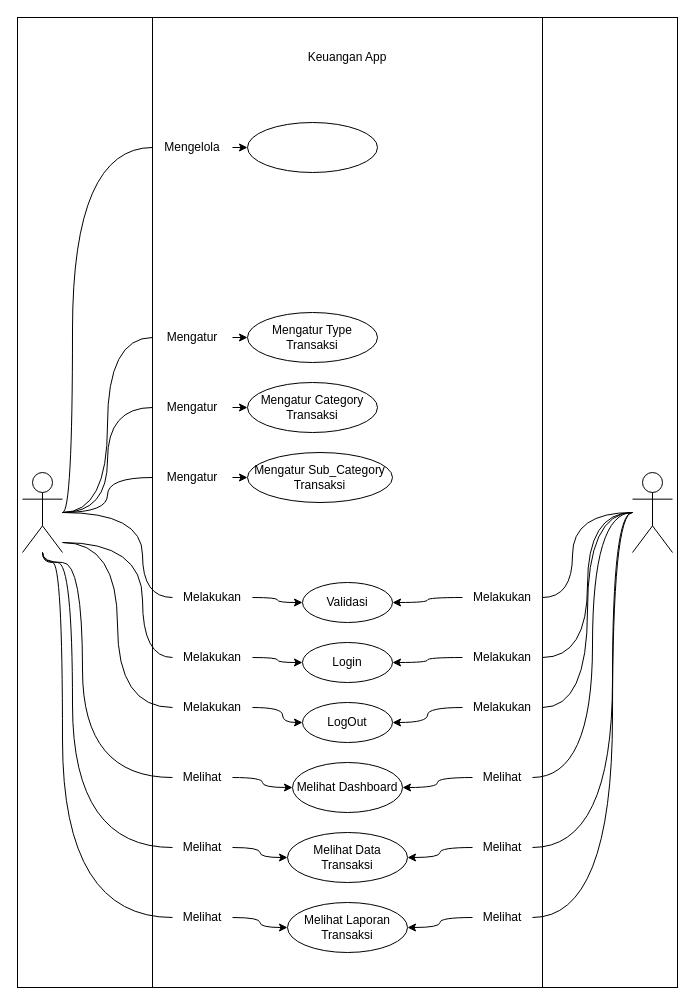
Image size: 695x1005. Some labels were removed from this diagram. The shapes that lost their labels are listed below. From the top down, each one's centre as x and y in pixels, then its label:
At (312,147): "Mengelola Transaksi".
At (42,512): "Admin".
At (652,512): "CEO".
